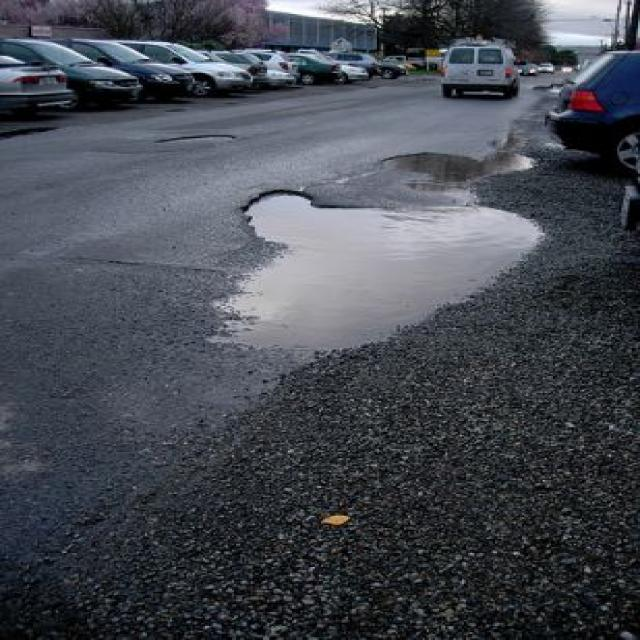Pothole: (202, 178, 548, 354), (372, 142, 538, 194)
